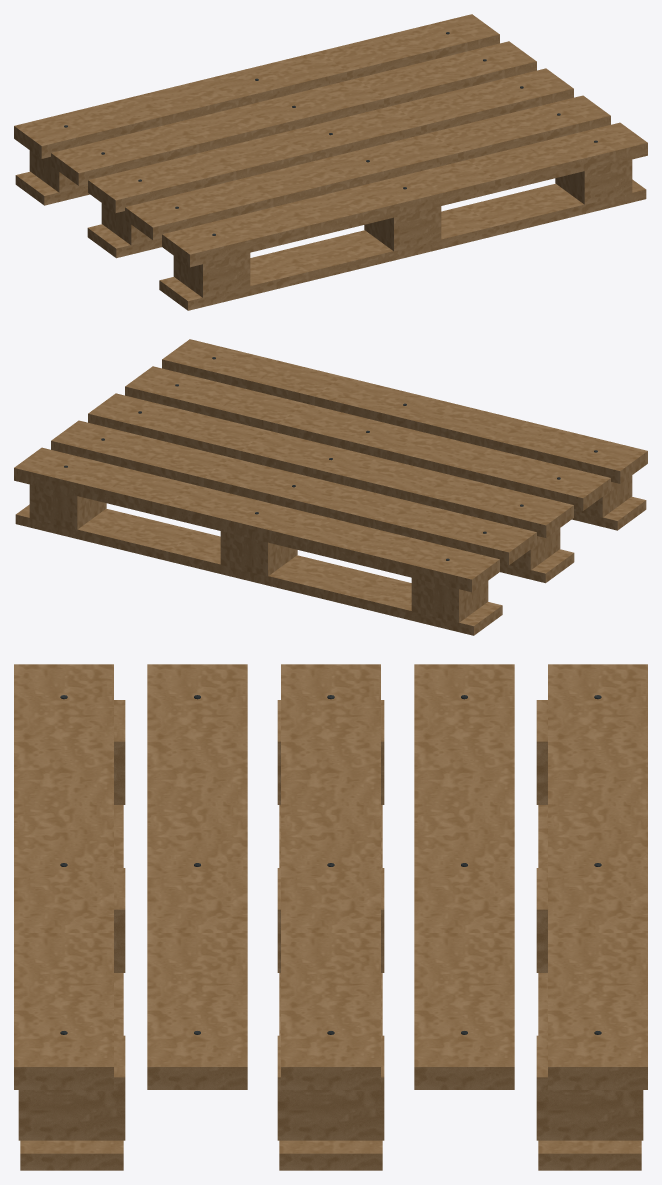
File: MOD_03_TimberPallet_1200x800.glb
3 renders of one model, top to bottom at view 1: azimuth 30°, elevation 25°; view 2: azimuth 150°, elevation 25°; view 3: azimuth 270°, elevation 25°, orthographic. The views are drawn at different scales.
Visible parts, largest first — view 1: Render_Pallet_TopPlank_1, Render_Pallet_TopPlank_2, Render_Pallet_TopPlank_3, Render_Pallet_TopPlank_4, Render_Pallet_TopPlank_5, Render_Pallet_BottomRunner_1, Render_Pallet_SolidStringerBlock_1_1, Render_Pallet_SolidStringerBlock_3_1, Render_Pallet_SolidStringerBlock_2_1, Render_Pallet_BottomRunner_2, Render_Pallet_BottomRunner_3, Render_Pallet_SolidStringerBlock_1_3 (+1 smaller); view 2: Render_Pallet_TopPlank_5, Render_Pallet_TopPlank_3, Render_Pallet_TopPlank_4, Render_Pallet_TopPlank_2, Render_Pallet_TopPlank_1, Render_Pallet_BottomRunner_3, Render_Pallet_SolidStringerBlock_1_3, Render_Pallet_SolidStringerBlock_3_3, Render_Pallet_SolidStringerBlock_2_3, Render_Pallet_BottomRunner_2, Render_Pallet_BottomRunner_1, Render_Pallet_SolidStringerBlock_1_1 (+1 smaller); view 3: Render_Pallet_TopPlank_2, Render_Pallet_TopPlank_4, Render_Pallet_TopPlank_1, Render_Pallet_TopPlank_5, Render_Pallet_TopPlank_3, Render_Pallet_SolidStringerBlock_3_1, Render_Pallet_SolidStringerBlock_3_3, Render_Pallet_SolidStringerBlock_3_2, Render_Pallet_BottomRunner_1, Render_Pallet_BottomRunner_3, Render_Pallet_BottomRunner_2, Render_Pallet_SolidStringerBlock_1_1 (+5 smaller).
Boxes of the visible parts, x1,y1,x2,y2 form: Render_Pallet_TopPlank_1: (162, 122, 647, 267); Render_Pallet_TopPlank_2: (125, 95, 610, 240); Render_Pallet_TopPlank_3: (88, 68, 573, 212); Render_Pallet_TopPlank_4: (51, 41, 536, 185); Render_Pallet_TopPlank_5: (14, 14, 499, 158); Render_Pallet_BottomRunner_1: (159, 179, 646, 310); Render_Pallet_SolidStringerBlock_1_1: (173, 253, 250, 297); Render_Pallet_SolidStringerBlock_3_1: (555, 159, 632, 204); Render_Pallet_SolidStringerBlock_2_1: (364, 206, 441, 251); Render_Pallet_BottomRunner_2: (87, 224, 161, 258); Render_Pallet_BottomRunner_3: (15, 171, 89, 205); Render_Pallet_SolidStringerBlock_1_3: (29, 150, 87, 192); Render_Pallet_TopPlank_5: (14, 447, 499, 592); Render_Pallet_TopPlank_3: (88, 393, 573, 537); Render_Pallet_TopPlank_4: (51, 420, 536, 565); Render_Pallet_TopPlank_2: (125, 366, 610, 510); Render_Pallet_TopPlank_1: (162, 339, 647, 483); Render_Pallet_BottomRunner_3: (15, 504, 502, 635); Render_Pallet_SolidStringerBlock_1_3: (411, 578, 488, 622); Render_Pallet_SolidStringerBlock_3_3: (29, 484, 106, 529); Render_Pallet_SolidStringerBlock_2_3: (220, 531, 297, 576); Render_Pallet_BottomRunner_2: (500, 549, 574, 583); Render_Pallet_BottomRunner_1: (572, 496, 646, 530); Render_Pallet_SolidStringerBlock_1_1: (574, 475, 632, 517); Render_Pallet_TopPlank_2: (147, 664, 247, 1089); Render_Pallet_TopPlank_4: (414, 664, 514, 1089); Render_Pallet_TopPlank_1: (14, 664, 113, 1089); Render_Pallet_TopPlank_5: (548, 664, 647, 1089); Render_Pallet_TopPlank_3: (281, 664, 380, 1089); Render_Pallet_SolidStringerBlock_3_1: (18, 1035, 125, 1140); Render_Pallet_SolidStringerBlock_3_3: (536, 1035, 643, 1140); Render_Pallet_SolidStringerBlock_3_2: (277, 1035, 384, 1140); Render_Pallet_BottomRunner_1: (20, 805, 123, 1170); Render_Pallet_BottomRunner_3: (538, 805, 641, 1170); Render_Pallet_BottomRunner_2: (279, 805, 382, 1170); Render_Pallet_SolidStringerBlock_1_1: (114, 700, 125, 804).
Bounding box in the file's own units: 1.2 × 0.1457 × 0.798.
2 materials, 2 textured.
